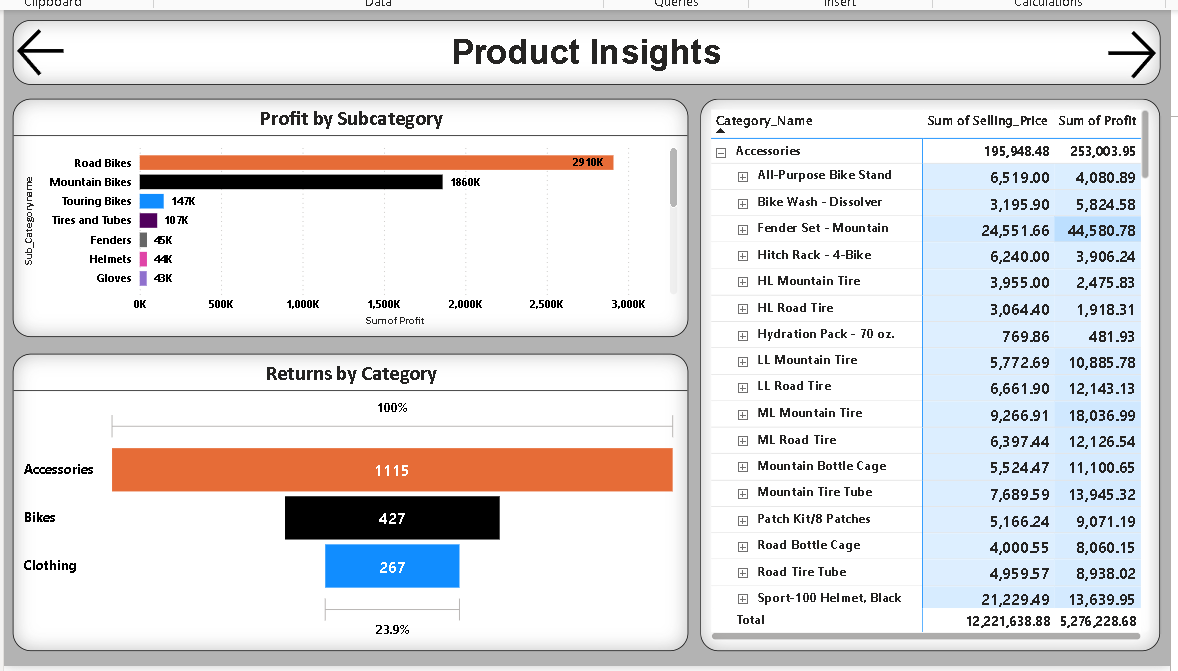

What the dashboard file says about the page in this screenshot:
{"tool":"powerbi","page":{"name":"Product Insights","canvas":[1280,720],"ordinal":17},"visuals":[{"type":"textbox","box":[9.6,11,1259.7,71.4],"z":0},{"type":"pivotTable","fields":{"Rows":["Dim_Products.Category_Name Hierarchy.Category_Name","Dim_Products.Category_Name Hierarchy.ProductName","Dim_Products.Category_Name Hierarchy.Sub_Categoryname"],"Values":["Sum(Fact_Sales.Selling_Price)","Sum(Fact_Sales.Profit)"]},"box":[764.3,97.4,505,606.5],"z":1000},{"type":"barChart","title":"Profit by Subcategory","fields":{"Category":["Dim_Products.Sub_Categoryname"],"Y":["Sum(Fact_Sales.Profit)"]},"box":[10.1,97.7,741.4,261.5],"z":2000},{"type":"funnel","title":"Returns by Category","fields":{"Y":["Dim_Returns.Total_Return_Orders"],"Category":["Dim_Product_Categories.CategoryName"]},"box":[10.1,377.9,741.4,326.2],"z":3000},{"type":"actionButton","box":[1204.1,0,64.7,97.7],"z":4000},{"type":"actionButton","box":[10.1,11.5,63.2,71.8],"z":5000}]}

Visuals, with their boxes on the page's 1280x720 design canvas (x1, y1, x2, y2). These are canvas units, not pixel positions in the 1178x671 screenshot, which may show the page scaled, cropped or inside an application window:
textbox: locate(10, 11, 1269, 82)
pivotTable - Dim_Products.Category_Name Hierarchy.Category_Name x Dim_Products.Category_Name Hierarchy.ProductName: locate(764, 97, 1269, 704)
"Profit by Subcategory" barChart: locate(10, 98, 752, 359)
"Returns by Category" funnel: locate(10, 378, 752, 704)
actionButton: locate(1204, 0, 1269, 98)
actionButton: locate(10, 12, 73, 83)
